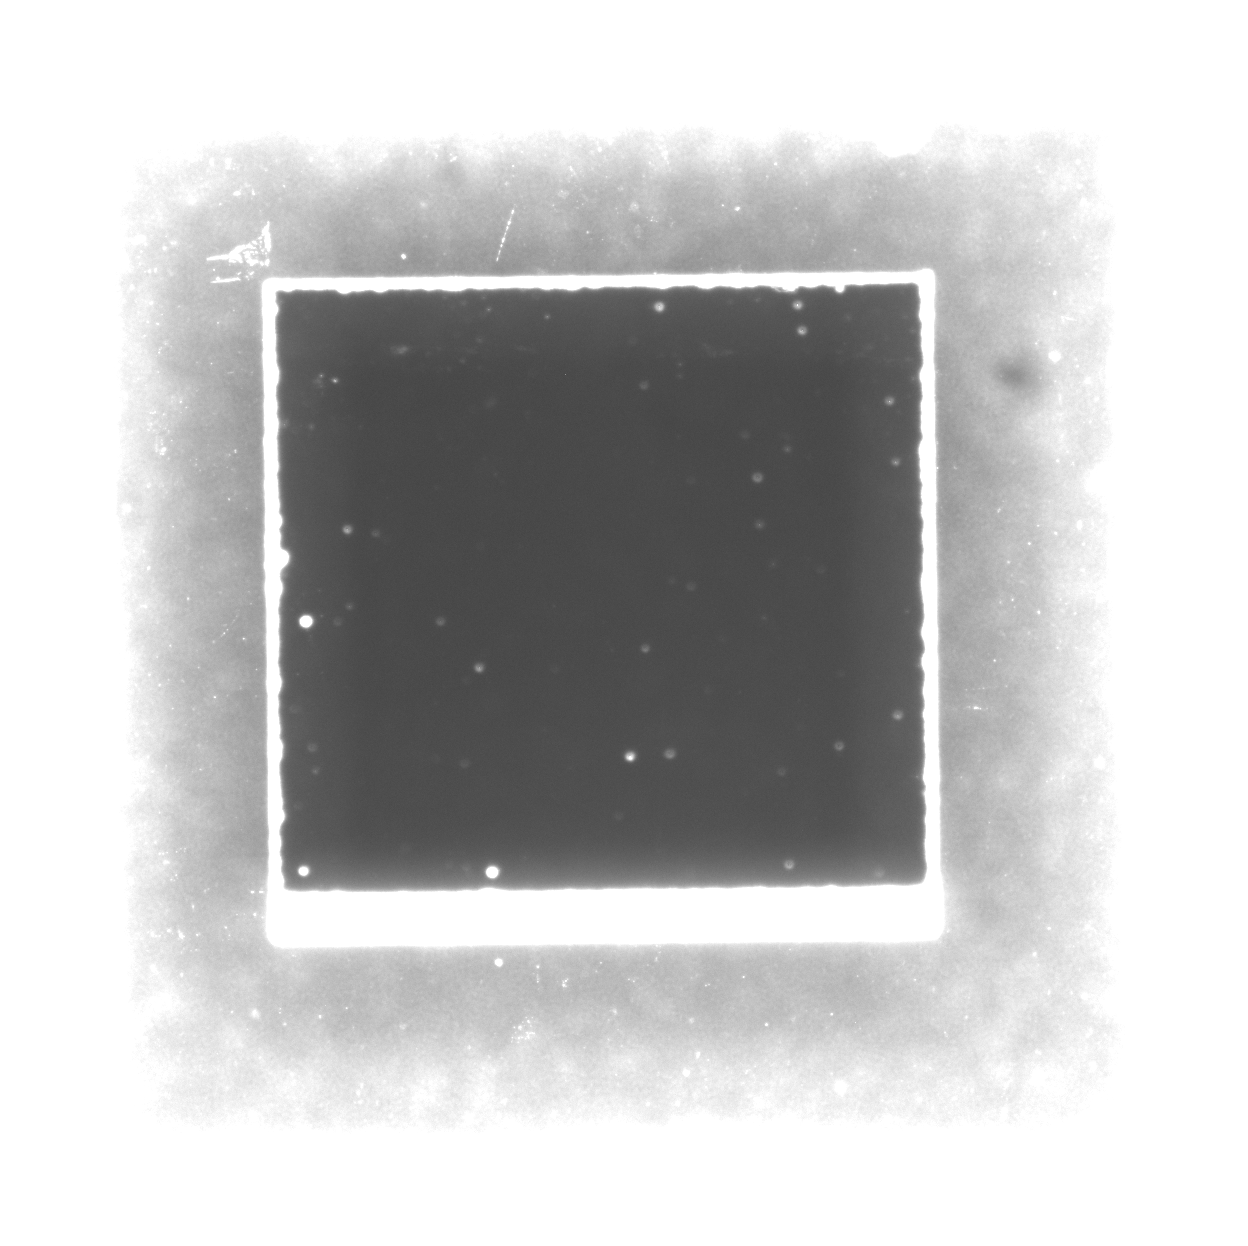dot: (465, 653, 493, 683), (297, 604, 323, 634), (653, 292, 676, 317), (293, 856, 316, 881), (619, 745, 646, 766), (483, 864, 507, 883), (795, 321, 812, 338)
edge_bottom: (261, 885, 953, 953)
